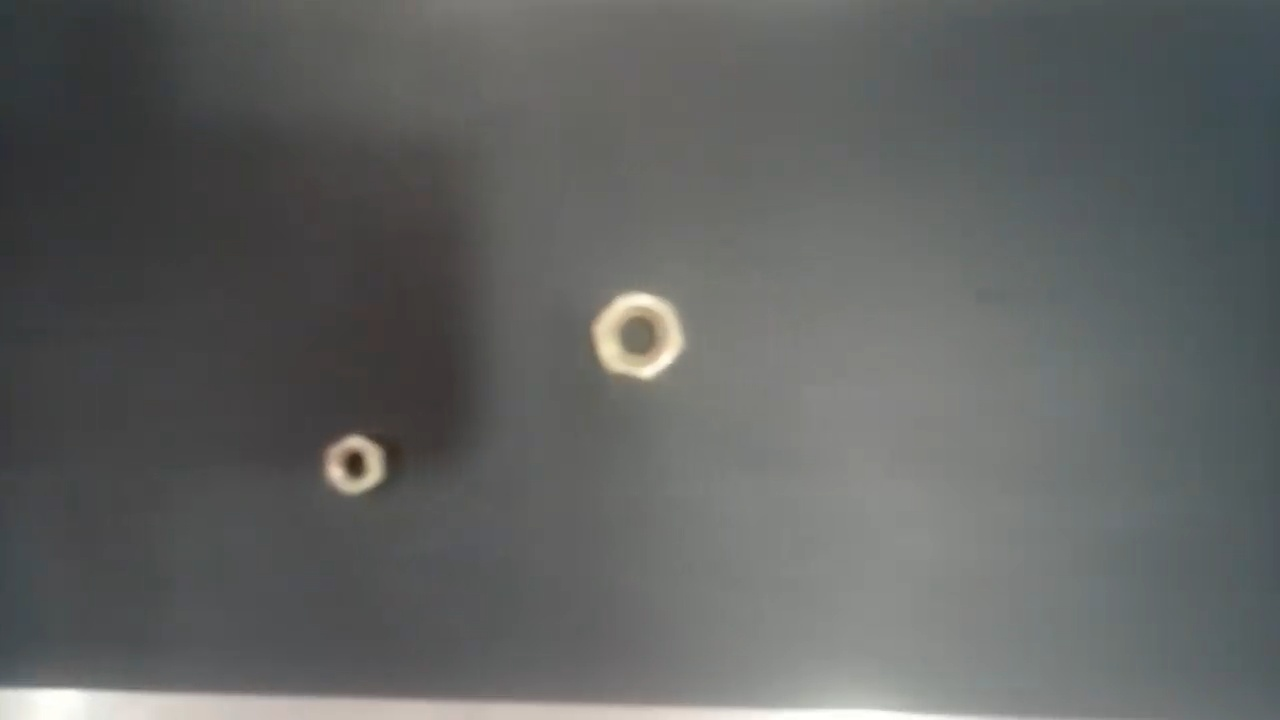Bolt: (588, 289, 687, 379), (321, 432, 391, 497)
